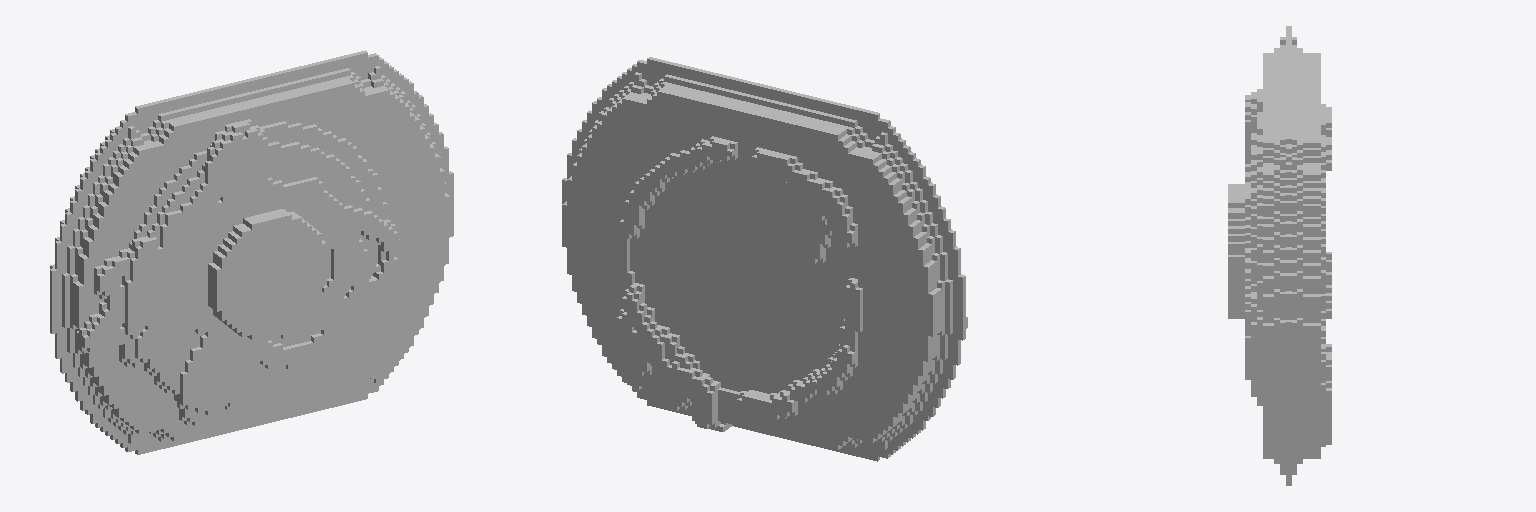
The model's file is turret.obj.
3 views of the same model, side by side, from view 1: azimuth 30°, elevation 25°; view 2: azimuth 150°, elevation 25°; view 3: azimuth 270°, elevation 25° (orthographic).
Visible parts, largest first — view 1: object 1; view 2: object 1; view 3: object 1.
Boxes of the visible parts, box(x1,y1,x2,y2) form: object 1: box(50, 50, 453, 454); object 1: box(562, 57, 967, 461); object 1: box(1228, 26, 1331, 485).
Size of the model in its own units: 8 by 6.6 by 1.8.